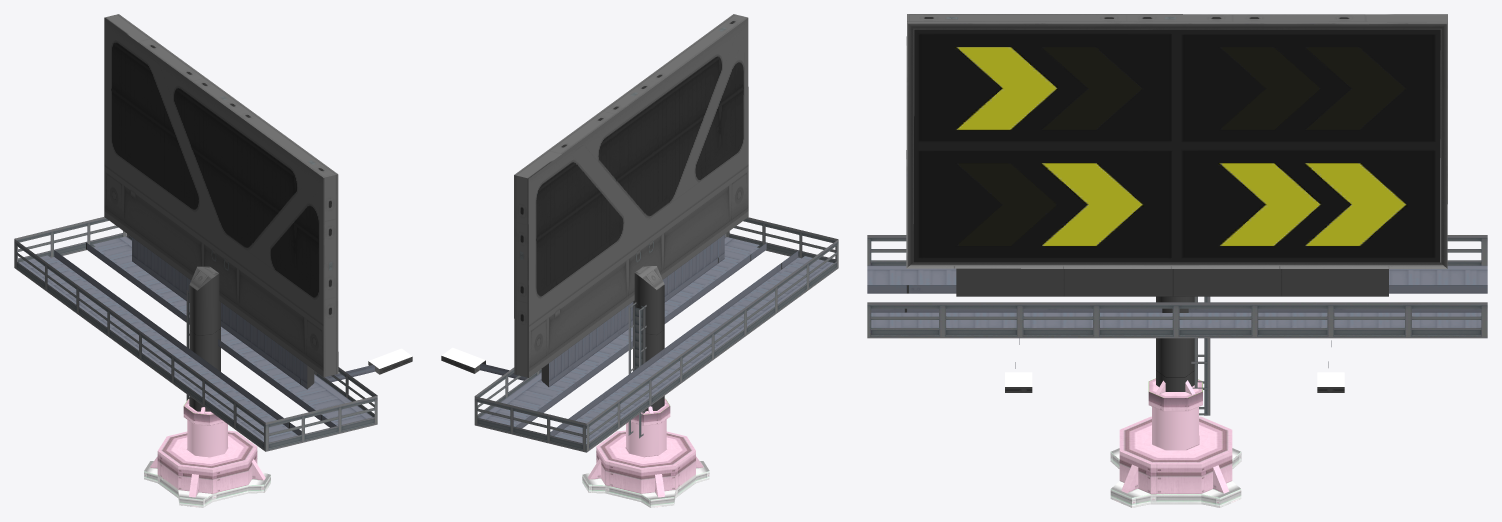
The model's file is prop_billboard_direction.fbx.
3 renders of one model, left to right at view 1: azimuth 30°, elevation 25°; view 2: azimuth 150°, elevation 25°; view 3: azimuth 270°, elevation 25°, orthographic. The views are drawn at different scales.
Parts seen in each view (by area): view 1: prop_billboard_right, support_ground_2, support_pylon_2, support_road_2; view 2: prop_billboard_right, support_ground_2, support_pylon_2, support_road_2; view 3: prop_billboard_right, support_ground_2, support_pylon_2, support_road_2.
Boxes of the visible parts, x1,y1,x2,y2 form: prop_billboard_right: [14, 14, 412, 451]; support_ground_2: [144, 430, 270, 507]; support_pylon_2: [187, 420, 227, 457]; support_road_2: [183, 399, 224, 425]; prop_billboard_right: [441, 14, 838, 452]; support_ground_2: [582, 430, 709, 507]; support_pylon_2: [626, 419, 666, 456]; support_road_2: [631, 398, 670, 425]; prop_billboard_right: [867, 14, 1487, 415]; support_ground_2: [1110, 416, 1241, 507]; support_pylon_2: [1152, 406, 1198, 450]; support_road_2: [1148, 378, 1202, 411].
Size of the model in its own units: 1096 by 1971 by 2352.
